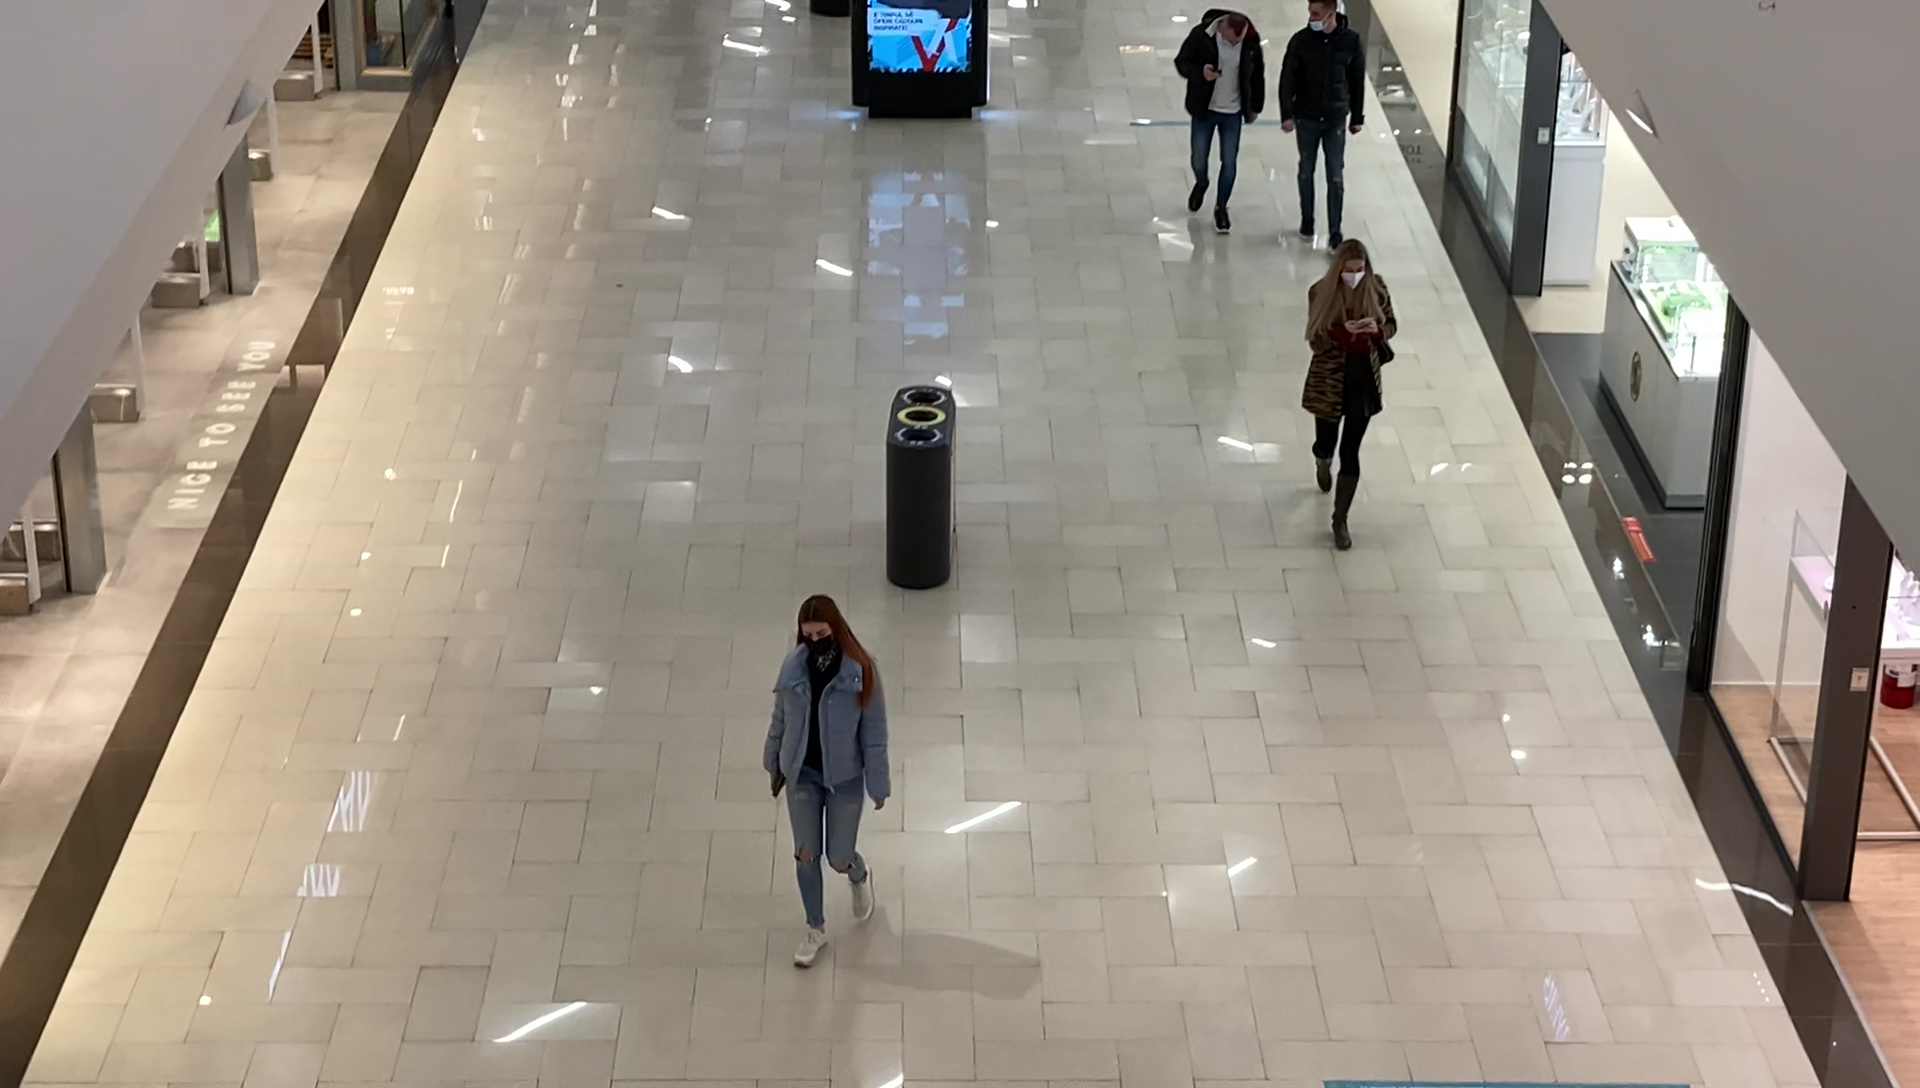person: (764, 596, 891, 968), (1300, 239, 1397, 552), (1279, 1, 1368, 251), (1175, 6, 1265, 236)
